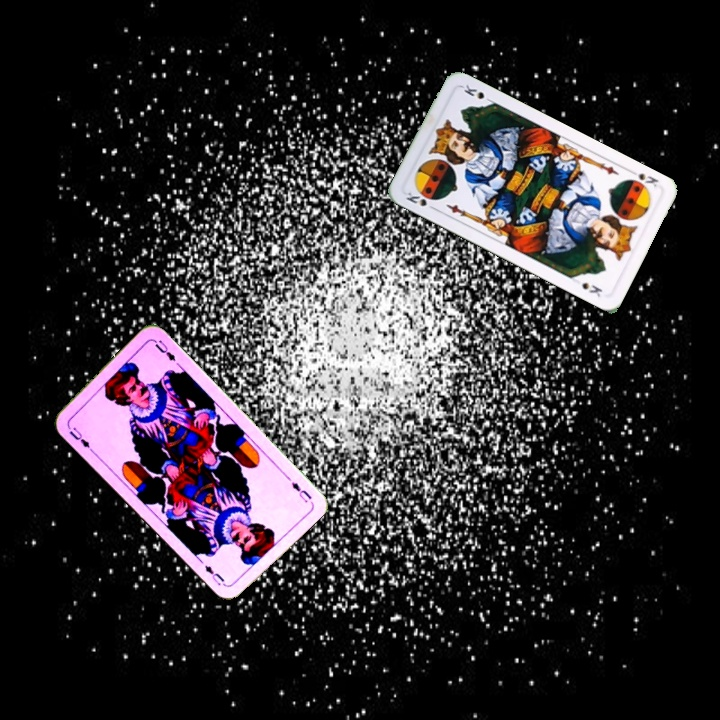EU: (65, 423, 96, 454), (287, 478, 314, 505)
SK: (402, 188, 439, 213), (625, 166, 661, 190)
